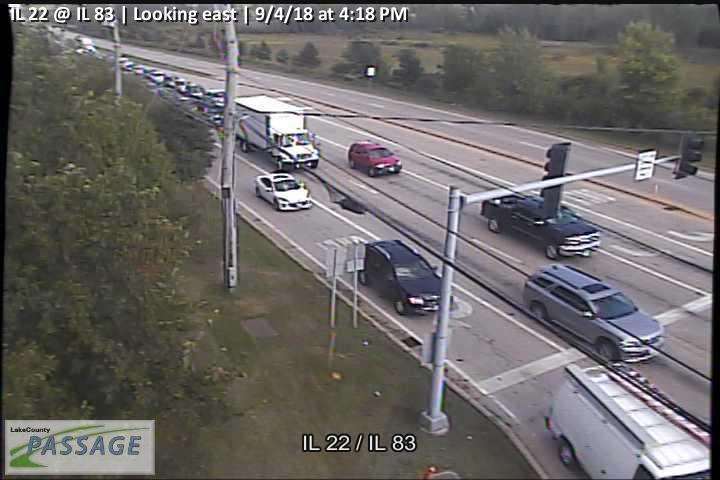SUV: (522, 262, 666, 364), (358, 238, 453, 315), (347, 140, 402, 177)
Sedan: (255, 173, 313, 211)
Truck: (548, 361, 711, 480), (481, 193, 603, 259), (236, 94, 322, 171)
